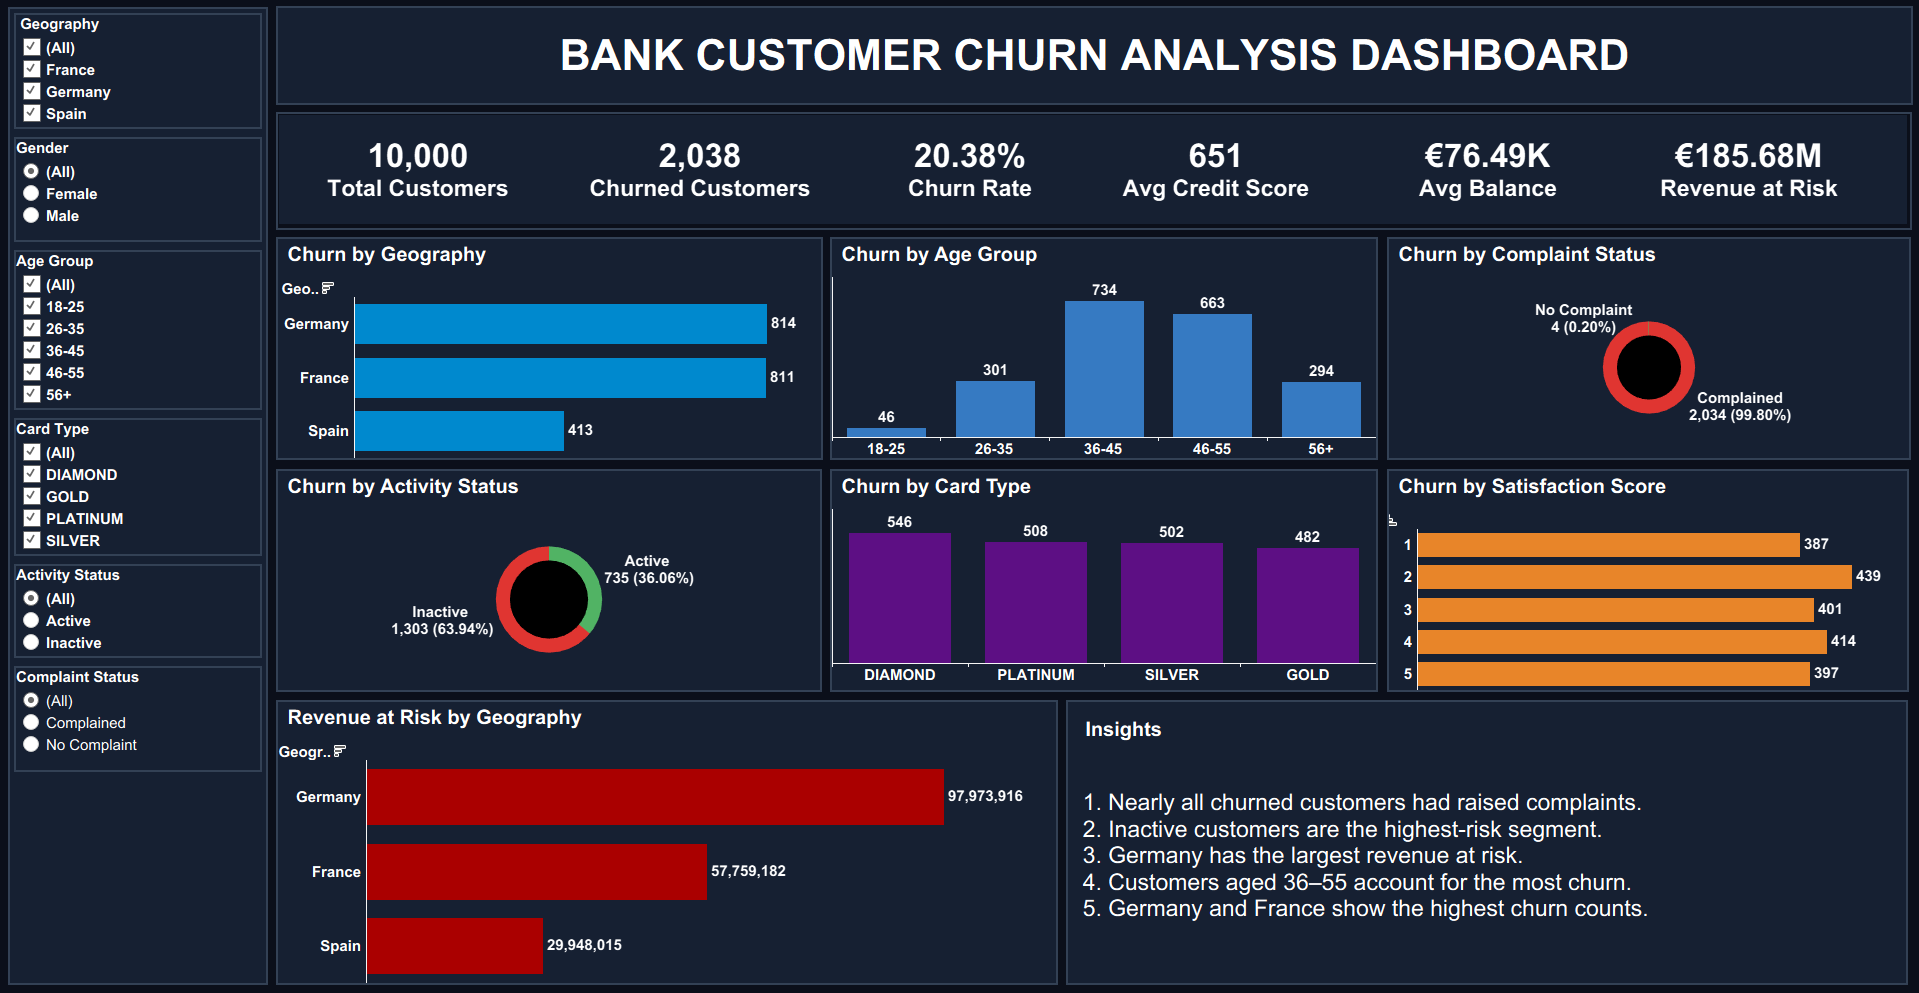

This screenshot's page, from the dashboard's own definition file:
{"tool":"tableau","page":{"name":"Dashboard ","canvas":[1000,1000],"units":"permille","ordinal":0},"visuals":[{"type":"text","box":[143.8,6.2,852.7,100]},{"type":"filter","title":" Geography","param":"[federated.0ah8mj30n69jxe1e27ie01wgltb0].[none:Geography:nk]","box":[5.3,10,133.1,155]},{"type":"worksheet","title":"Total Customers","mark":"Automatic","box":[145.4,116.2,144.8,110]},{"type":"worksheet","title":"Churned Customers","mark":"Automatic","box":[288.5,116.2,152.1,110]},{"type":"worksheet","title":"Churn Rate","mark":"Automatic","box":[438.7,116.2,132.8,110]},{"type":"worksheet","title":"Avg Credit Score","mark":"Automatic","box":[555.8,116.2,155.1,110]},{"type":"worksheet","title":"Avg Balance","mark":"Automatic","box":[692.2,116.2,165.4,110]},{"type":"worksheet","title":"Rev at Risk","mark":"Automatic","box":[828,116.2,165.4,110]},{"type":"filter","title":" Age Group","param":"[federated.0ah8mj30n69jxe1e27ie01wgltb0].[none:Gender:nk]","box":[5.3,165,133.1,141.2]},{"type":"worksheet","title":" Geography","mark":"Automatic","rows":["Geography"],"cols":["Calculation_743656890102456321"],"box":[143.6,238.8,284.9,225]},{"type":"worksheet","title":" Age Group","mark":"Automatic","rows":["Calculation_743656890102456321"],"cols":["Age Group"],"box":[432.5,238.8,285.2,225]},{"type":"worksheet","title":"Complaint Status","mark":"Pie","rows":["Calculation_743656890133008396","Calculation_743656890133110798"],"box":[722.4,238.8,272.9,225]},{"type":"filter","title":" Age Group","param":"[federated.0ah8mj30n69jxe1e27ie01wgltb0].[none:Age Group:nk]","box":[5.3,306.2,133.1,210]},{"type":"worksheet","title":" Activity Status","mark":"Pie","rows":["Calculation_743656890135273489","Calculation_743656890135293971"],"box":[143.6,472.5,284.2,225]},{"type":"worksheet","title":" Card Type","mark":"Automatic","rows":["Calculation_743656890102456321"],"cols":["Card Type"],"box":[432.5,472.5,285.2,225]},{"type":"worksheet","title":"Satisfaction Score","mark":"Automatic","rows":["Satisfaction Score"],"cols":["Calculation_743656890102456321"],"box":[722.4,472.5,271.7,225]},{"type":"filter","title":" Card Type","param":"[federated.0ah8mj30n69jxe1e27ie01wgltb0].[none:Card Type:nk]","box":[5.3,516.2,133.1,182.5]},{"type":"filter","title":" Activity Status","param":"[federated.0ah8mj30n69jxe1e27ie01wgltb0].[none:Activity Status:nk]","box":[5.3,698.8,133.1,127.5]},{"type":"worksheet","title":"Risk","mark":"Automatic","rows":["Geography"],"cols":["Calculation_743656890103869446"],"box":[143.8,705,407.3,287.5]},{"type":"text","box":[563.4,712.5,61.6,43.8]},{"type":"text","box":[558.7,741.2,429.6,242.5]},{"type":"filter","title":"Complaint Status","param":"[federated.0ah8mj30n69jxe1e27ie01wgltb0].[none:Complaint Status:nk]","box":[5.3,826.2,133.1,142.5]}]}

Visuals, with their boxes on the dashboard's canvas, which has no fixed pixel size, in thousandths of its width and height (x1, y1, x2, y2). These are canvas units, not pixel positions in the 1919x993 screenshot, which may show the page scaled, cropped or inside an application window:
text: [left=144, top=6, right=996, bottom=106]
" Geography" filter: [left=5, top=10, right=138, bottom=165]
"Total Customers" worksheet: [left=145, top=116, right=290, bottom=226]
"Churned Customers" worksheet: [left=288, top=116, right=441, bottom=226]
"Churn Rate" worksheet: [left=439, top=116, right=572, bottom=226]
"Avg Credit Score" worksheet: [left=556, top=116, right=711, bottom=226]
"Avg Balance" worksheet: [left=692, top=116, right=858, bottom=226]
"Rev at Risk" worksheet: [left=828, top=116, right=993, bottom=226]
" Age Group" filter: [left=5, top=165, right=138, bottom=306]
" Geography" worksheet: [left=144, top=239, right=428, bottom=464]
" Age Group" worksheet: [left=432, top=239, right=718, bottom=464]
"Complaint Status" worksheet (Pie marks): [left=722, top=239, right=995, bottom=464]
" Age Group" filter: [left=5, top=306, right=138, bottom=516]
" Activity Status" worksheet (Pie marks): [left=144, top=472, right=428, bottom=698]
" Card Type" worksheet: [left=432, top=472, right=718, bottom=698]
"Satisfaction Score" worksheet: [left=722, top=472, right=994, bottom=698]
" Card Type" filter: [left=5, top=516, right=138, bottom=699]
" Activity Status" filter: [left=5, top=699, right=138, bottom=826]
"Risk" worksheet: [left=144, top=705, right=551, bottom=992]
text: [left=563, top=712, right=625, bottom=756]
text: [left=559, top=741, right=988, bottom=984]
"Complaint Status" filter: [left=5, top=826, right=138, bottom=969]
